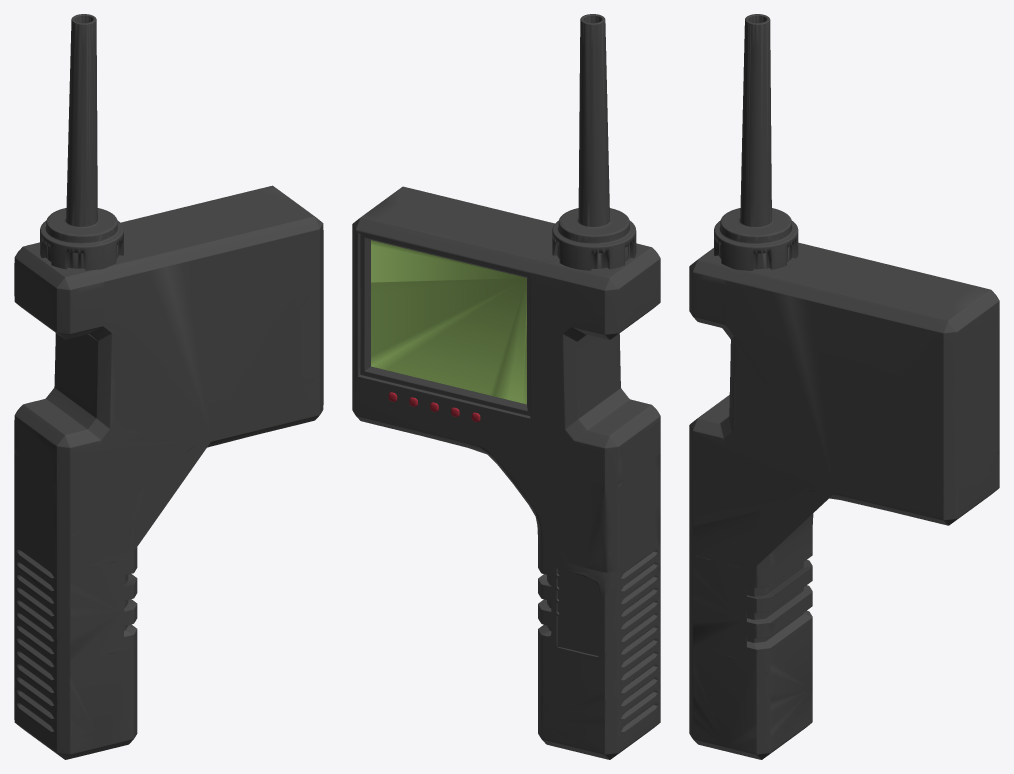
The model's file is scanner2.fbx.
3 renders of one model, left to right at view 1: azimuth 30°, elevation 25°; view 2: azimuth 150°, elevation 25°; view 3: azimuth 330°, elevation 25°, orthographic.
Parts seen in each view (by area): view 1: body, antena; view 2: body, screen, antena; view 3: body, antena.
Part boxes in pixels (<box>): body: <box>14,185,323,759</box>; antena: <box>40,14,123,270</box>; body: <box>352,186,660,759</box>; screen: <box>371,240,526,404</box>; antena: <box>552,14,636,270</box>; body: <box>689,242,999,759</box>; antena: <box>714,14,798,270</box>.
Bounding box in the file's own units: 6.04 × 15.48 × 2.09.
